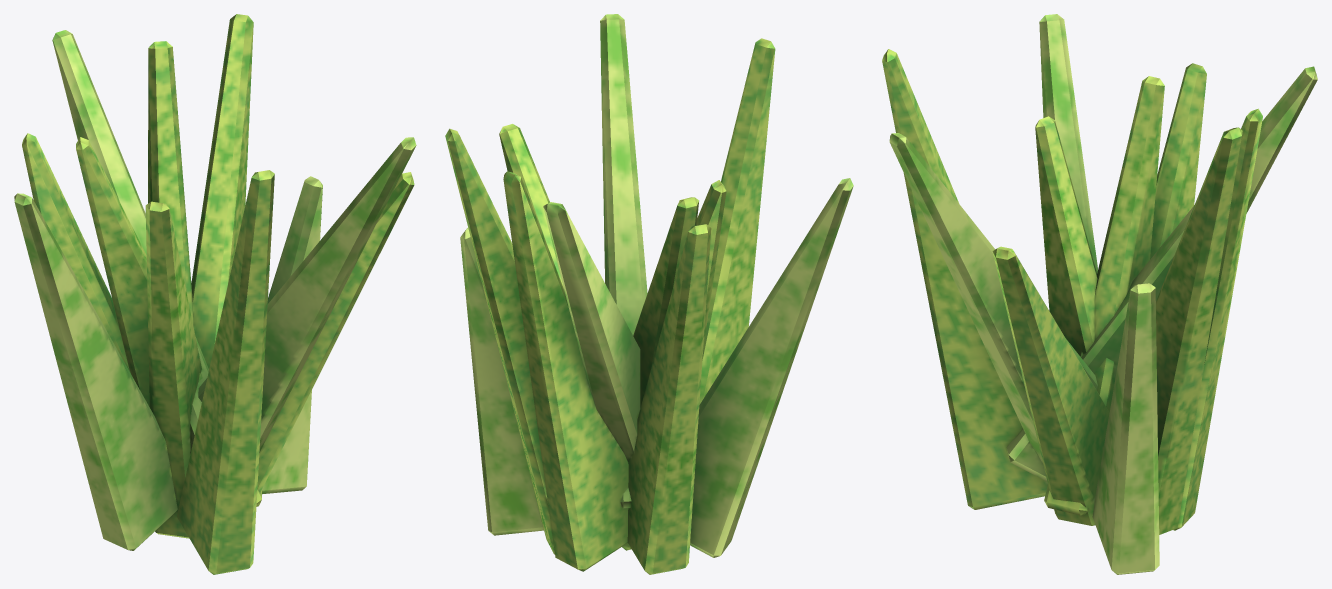
The model's file is TouffeHerbe.fbx.
3 views of the same model, side by side, from view 1: azimuth 30°, elevation 25°; view 2: azimuth 150°, elevation 25°; view 3: azimuth 270°, elevation 25° (orthographic). The views are drawn at different scales.
Parts seen in each view (by area): view 1: TouffeHerbe; view 2: TouffeHerbe; view 3: TouffeHerbe.
Boxes of the visible parts, x1,y1,x2,y2 form: TouffeHerbe: [14, 14, 416, 574]; TouffeHerbe: [445, 14, 853, 574]; TouffeHerbe: [882, 14, 1317, 574].
Bounding box in the file's own units: 267 × 298 × 262.
1 material, 1 textured.
